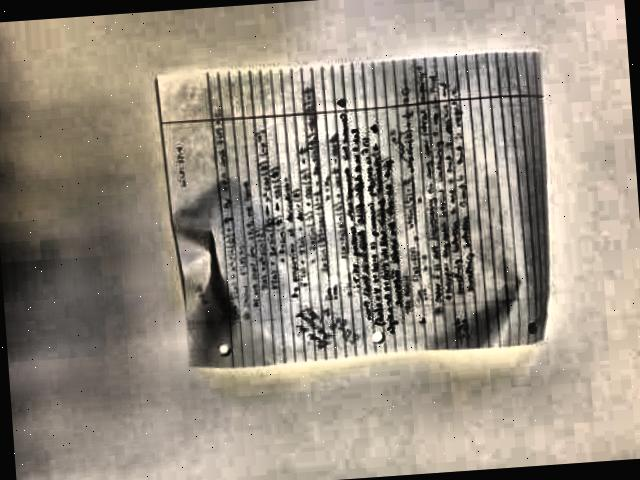Paper: (136, 25, 582, 382)
